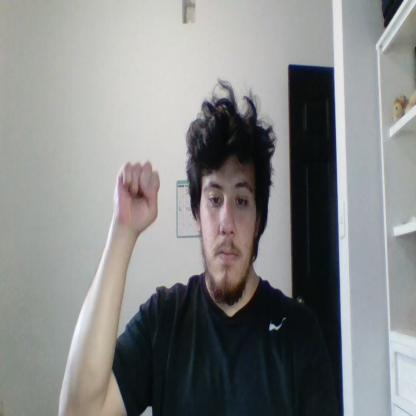S: (115, 161, 159, 232)
